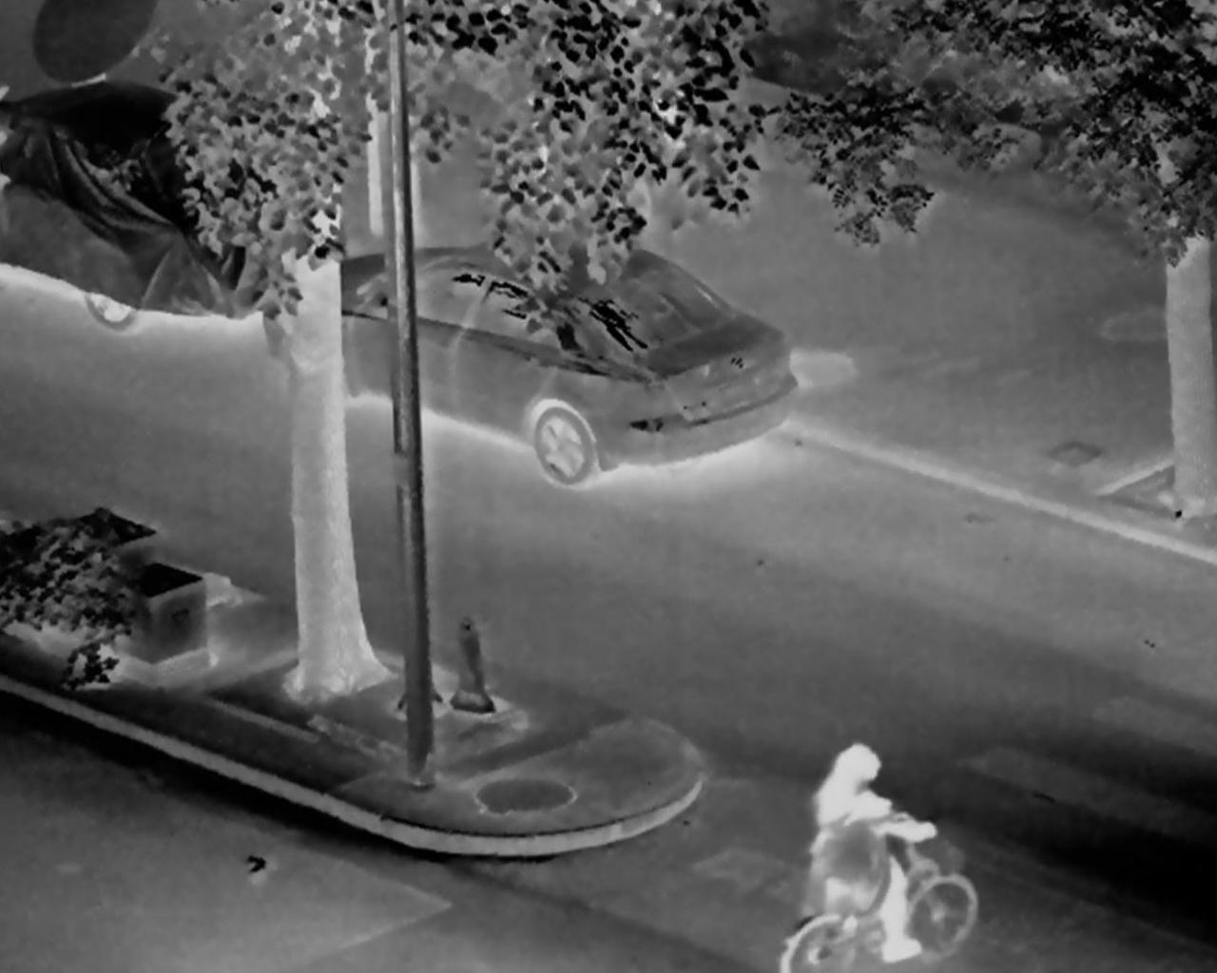person: (811, 745, 937, 965)
